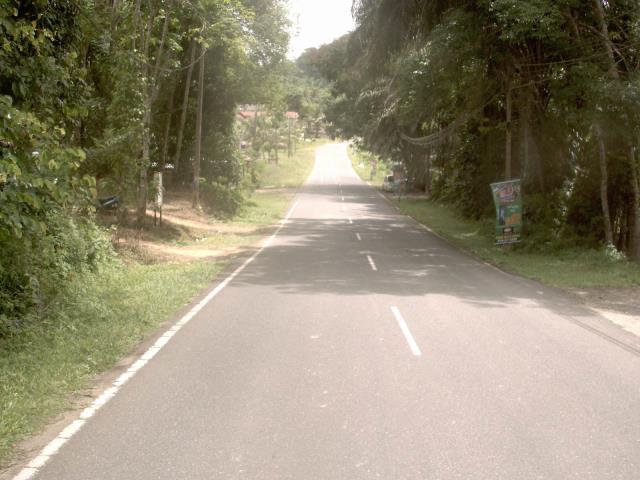ads_sign: (482, 171, 531, 257)
